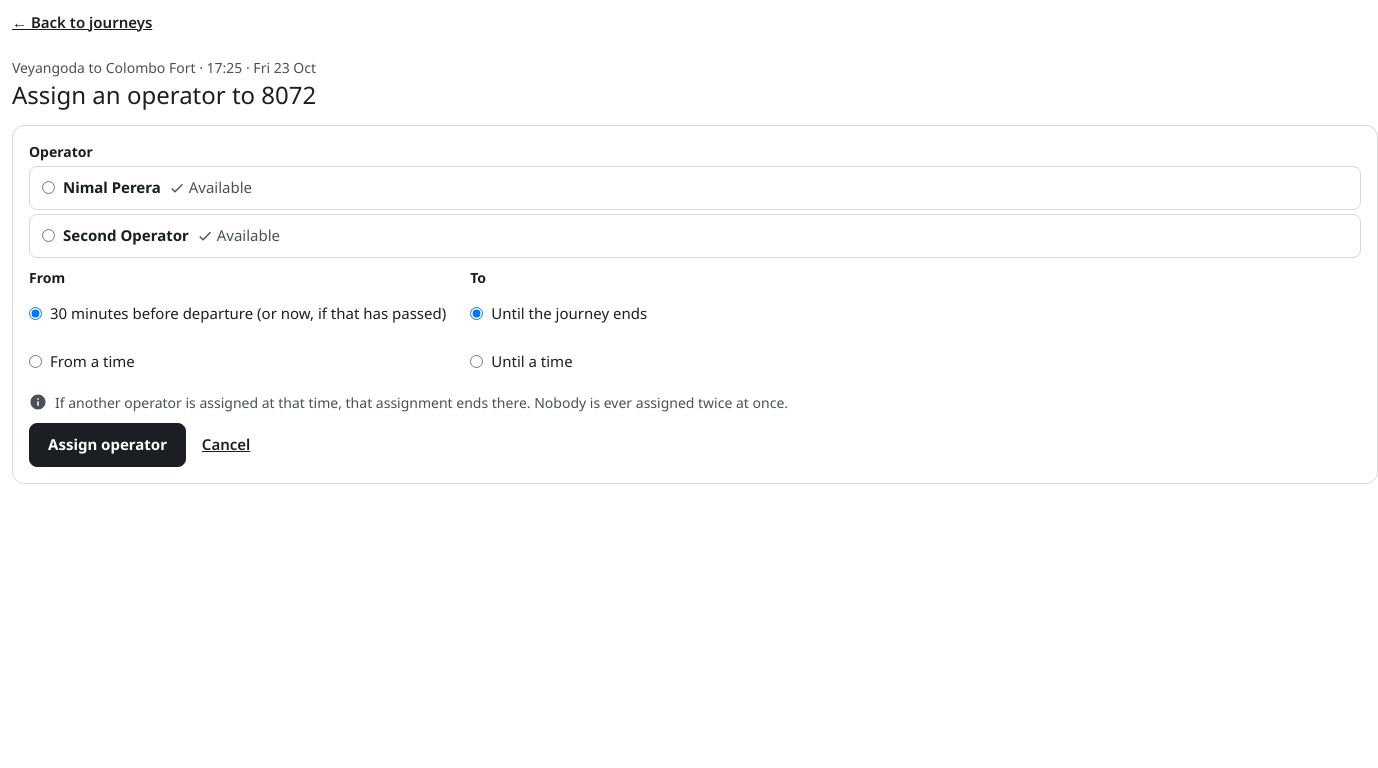
Test: Assign an operator (spec 17 A2) › needs an operator and a valid time before it sends anything
Click the button "Assign operator": (107, 445) [29,423,186,467]
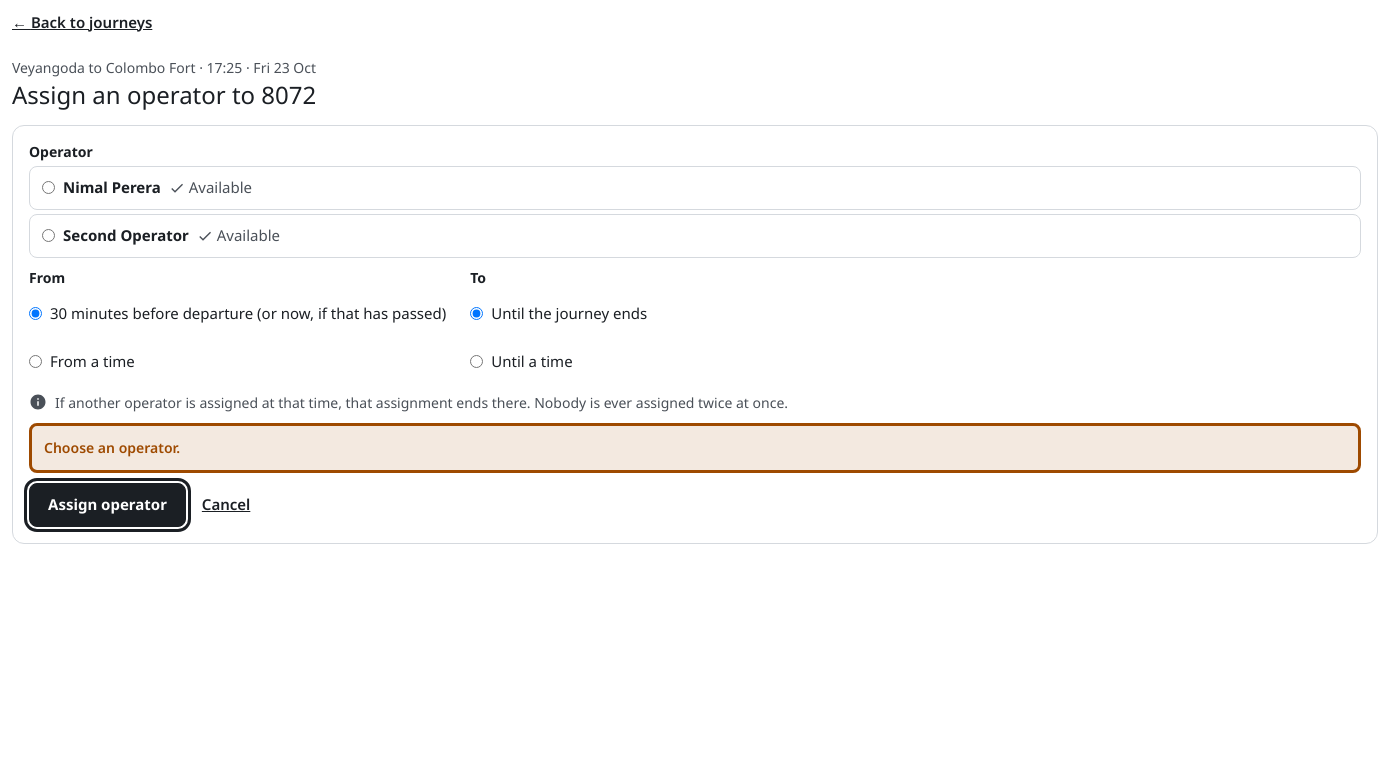
Result: the text "Choose an operator." is shown at [29,423,1361,473]
Click the radio button labelled "Nimal Perera Available": (48, 188) [42,181,55,194]
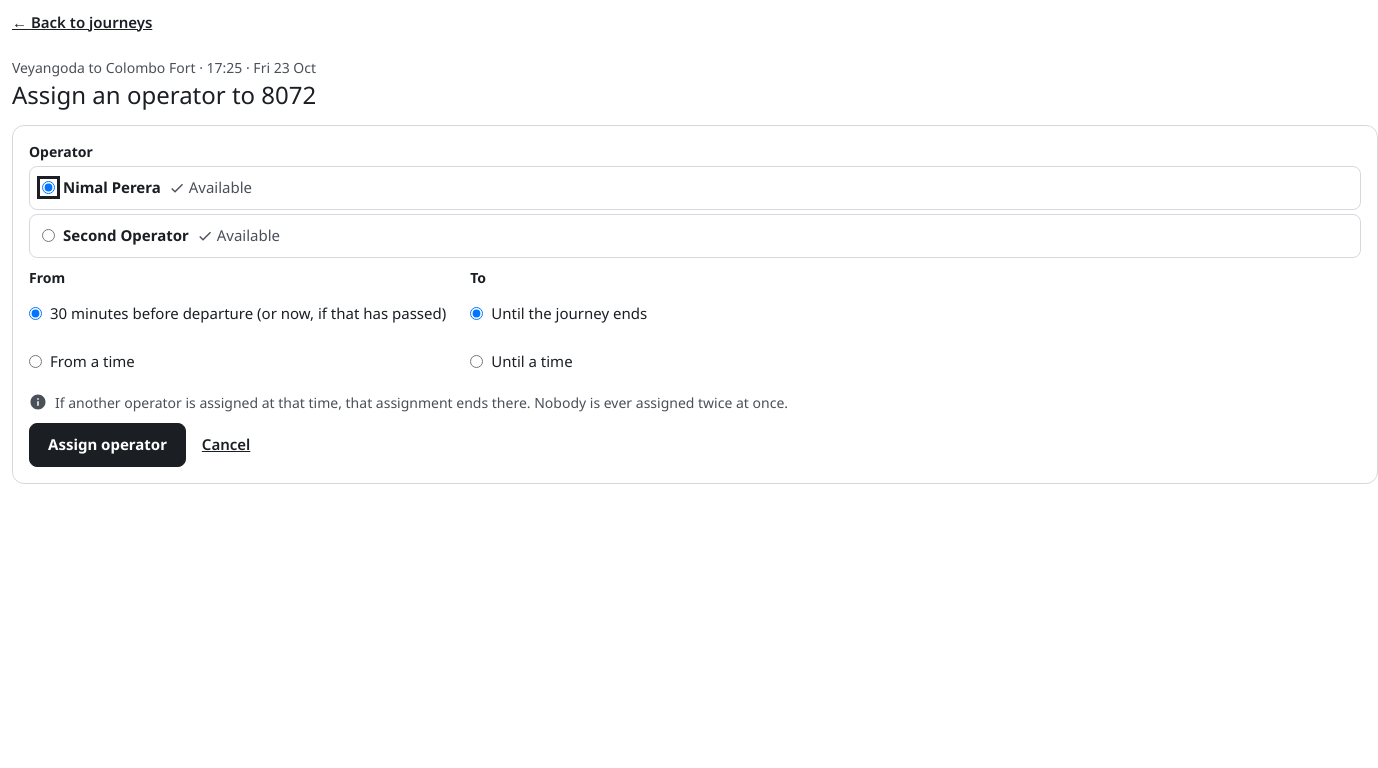
Click the radio button labelled "From a time": (36, 361) [29,355,42,368]
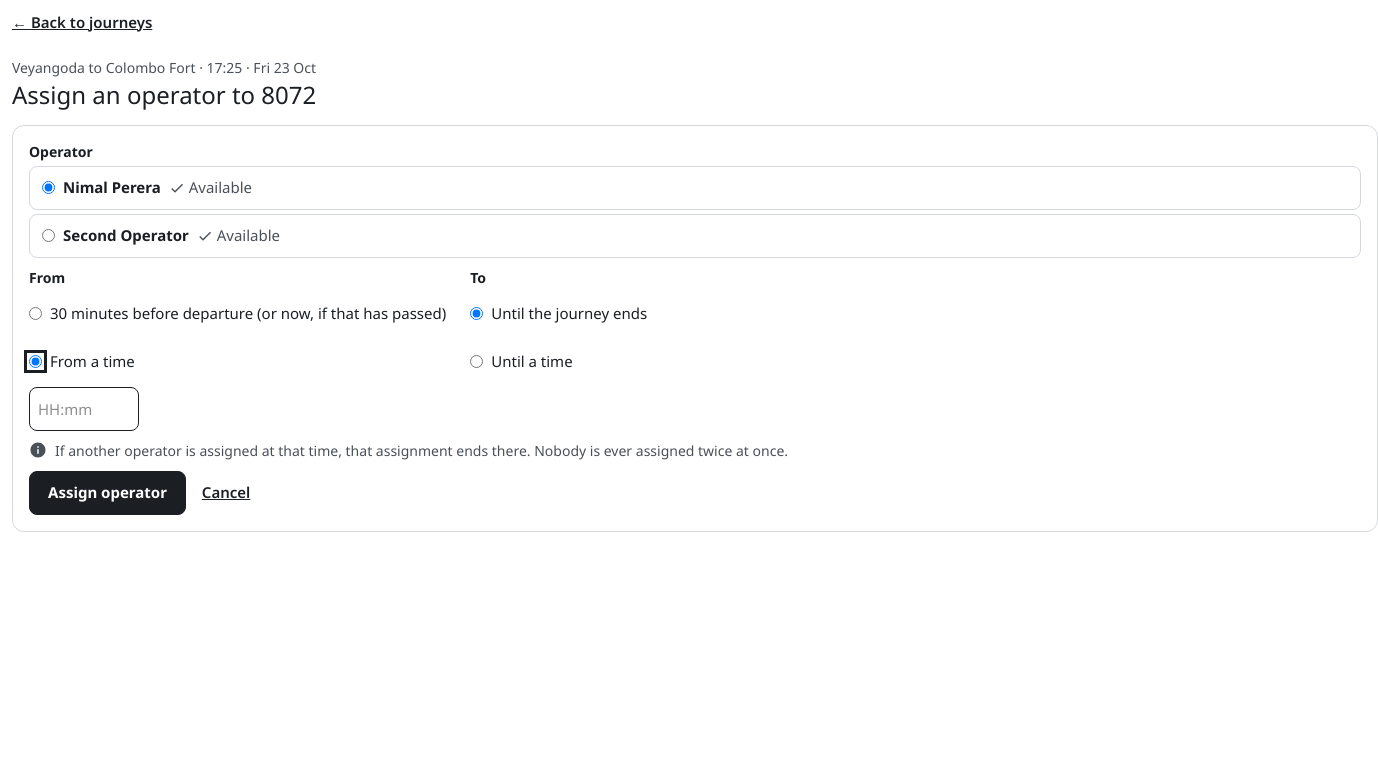
In the field named "From: Time (HH:mm)": (84, 409) [29,387,139,431], type "9:30"
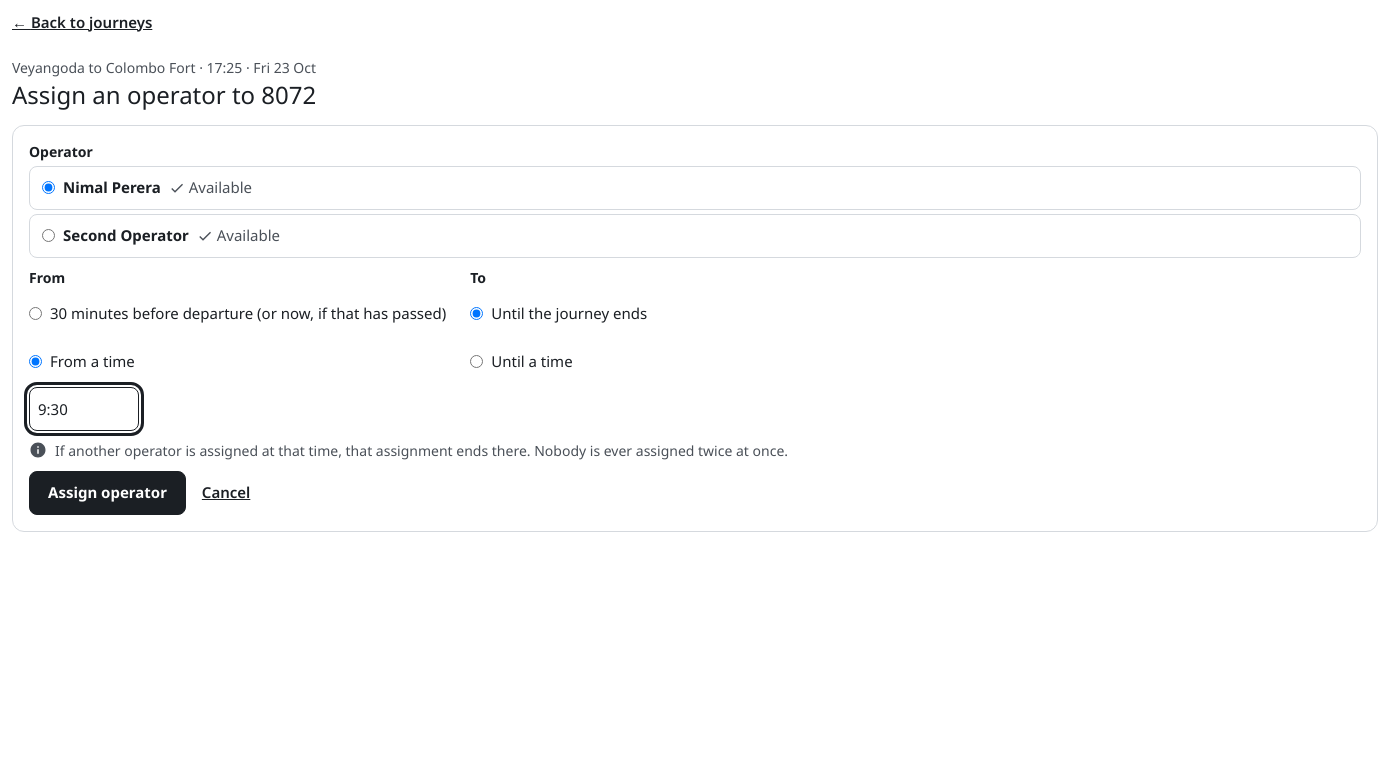
Click the button "Assign operator": (107, 493) [29,471,186,515]
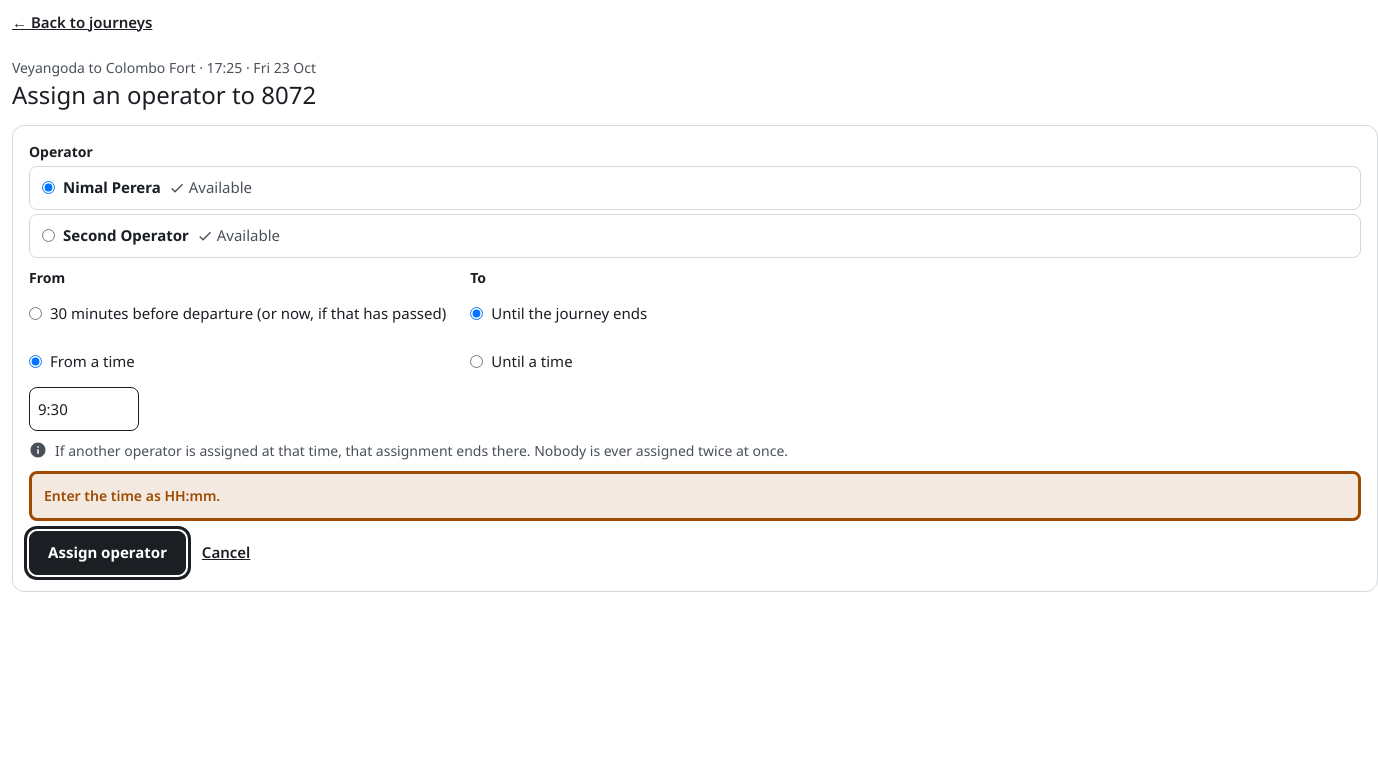
Result: the text "Enter the time as HH:mm." is shown at [29,471,1361,521]
